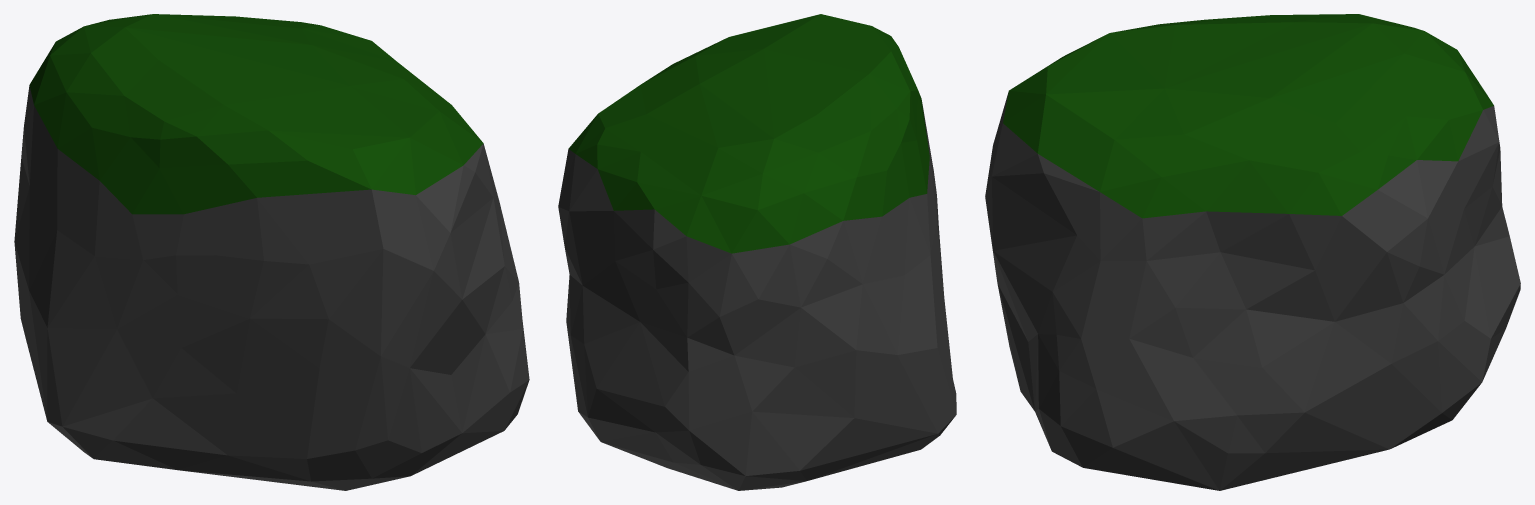
File: HighLandRock2.fbx
The picture shows the model from 3 angles, left to right: view 1: azimuth 30°, elevation 25°; view 2: azimuth 150°, elevation 25°; view 3: azimuth 270°, elevation 25°; orthographic projection. The views are drawn at different scales.
Visible parts, largest first — view 1: HighLandRock2_LOD0; view 2: HighLandRock2_LOD0; view 3: HighLandRock2_LOD0.
Boxes of the visible parts, left/top/right/bottom form: HighLandRock2_LOD0: left=14, top=14, right=529, bottom=490; HighLandRock2_LOD0: left=558, top=14, right=956, bottom=490; HighLandRock2_LOD0: left=985, top=14, right=1520, bottom=490.
Size of what is drawn, in the model's own units: 48.2 by 43.87 by 57.43.
